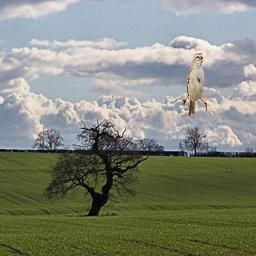Sparrow: (183, 54, 208, 117)
